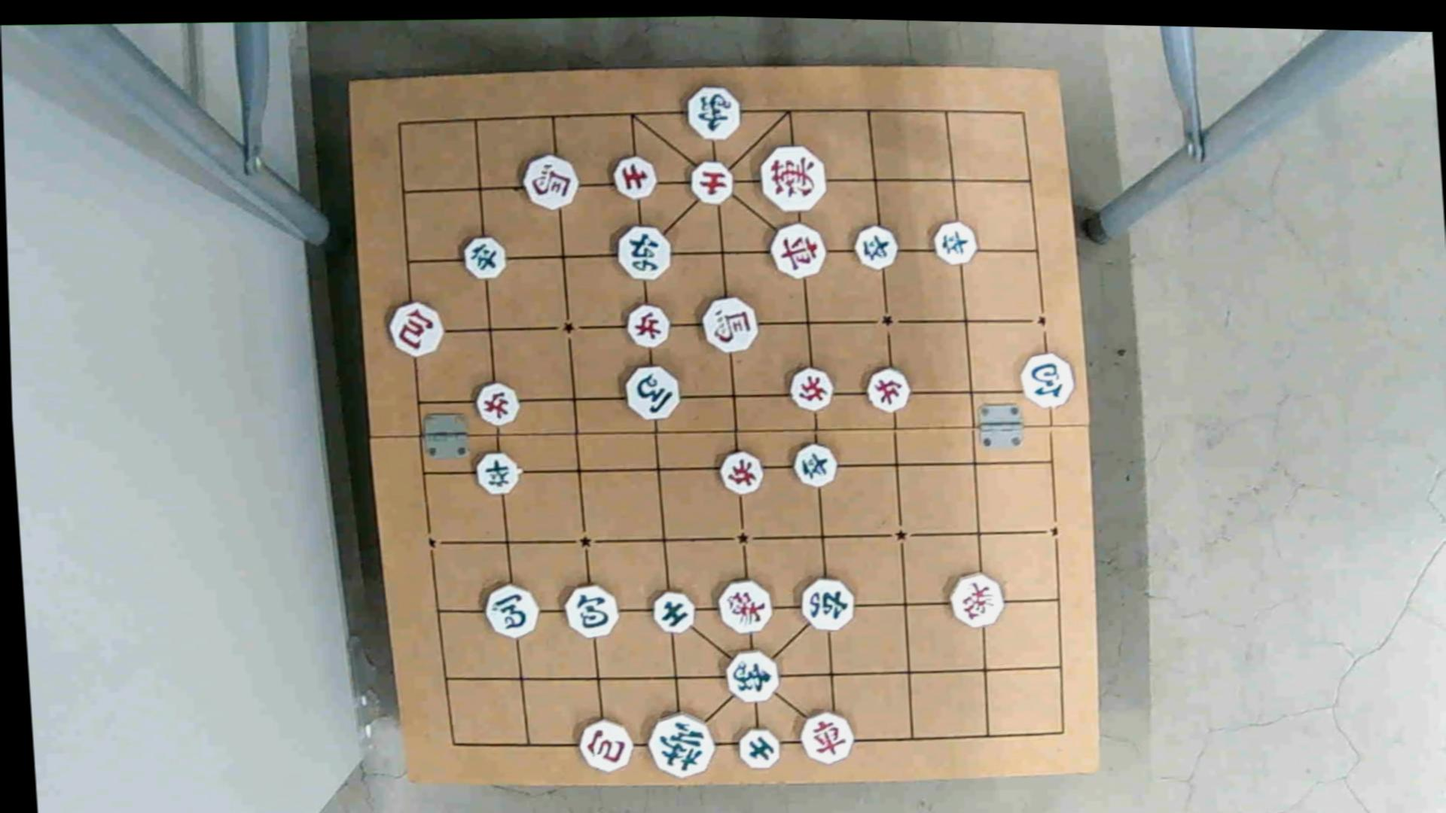cha_green: (799, 577, 859, 629), (618, 226, 670, 282)
cha_red: (769, 225, 826, 280), (801, 712, 853, 762)
jol_green: (790, 442, 839, 487), (462, 235, 508, 281), (930, 221, 979, 264), (851, 225, 901, 267), (473, 452, 520, 493)
jol_red: (472, 380, 523, 427), (716, 449, 767, 495), (864, 367, 914, 413), (789, 364, 835, 413), (622, 308, 673, 349)
ma_green: (626, 364, 682, 421), (486, 586, 540, 638)
ma_red: (702, 297, 758, 352), (520, 156, 579, 208)
po_green: (560, 583, 621, 635), (1017, 354, 1078, 405)
po_red: (386, 302, 446, 355), (579, 719, 633, 769)
sa_green: (650, 588, 694, 633), (738, 727, 781, 770)
sa_red: (687, 160, 736, 206), (612, 156, 657, 196)
sang_green: (689, 88, 740, 138), (727, 653, 776, 700)
sang_red: (949, 574, 1007, 628), (716, 579, 773, 631)
wang_green: (649, 714, 714, 775)
wang_red: (763, 150, 822, 208)
